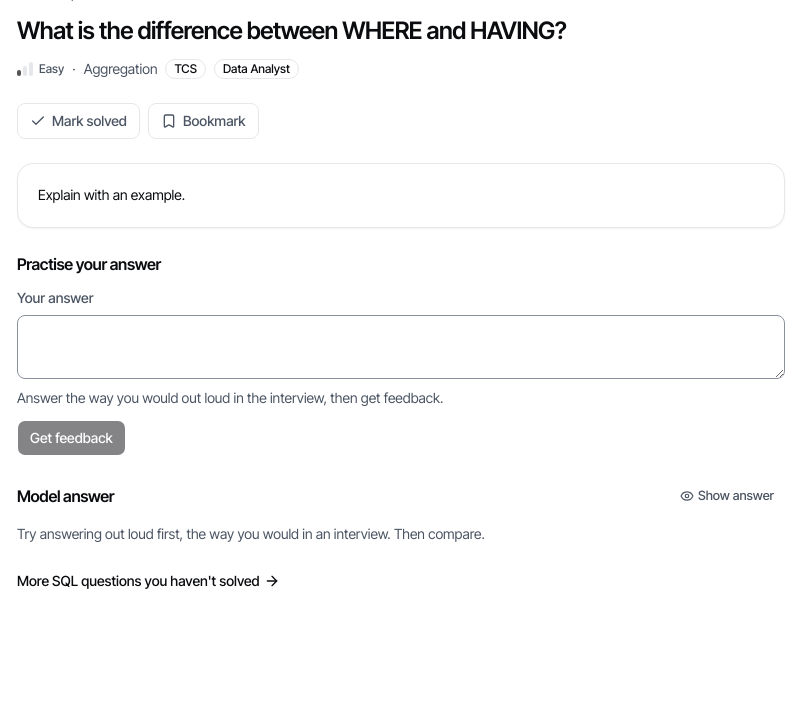
it: QuestionView: your answer and the coach › gets feedback on a written answer
The width and height of the screenshot is (803, 703).
Expected: the button "Get feedback" is disabled, [17,420,126,456]
Type "WHERE filters rows before grouping, HAVING filters the groups." into the text box labelled "Your answer" at (401, 347), box [17,315,785,379]
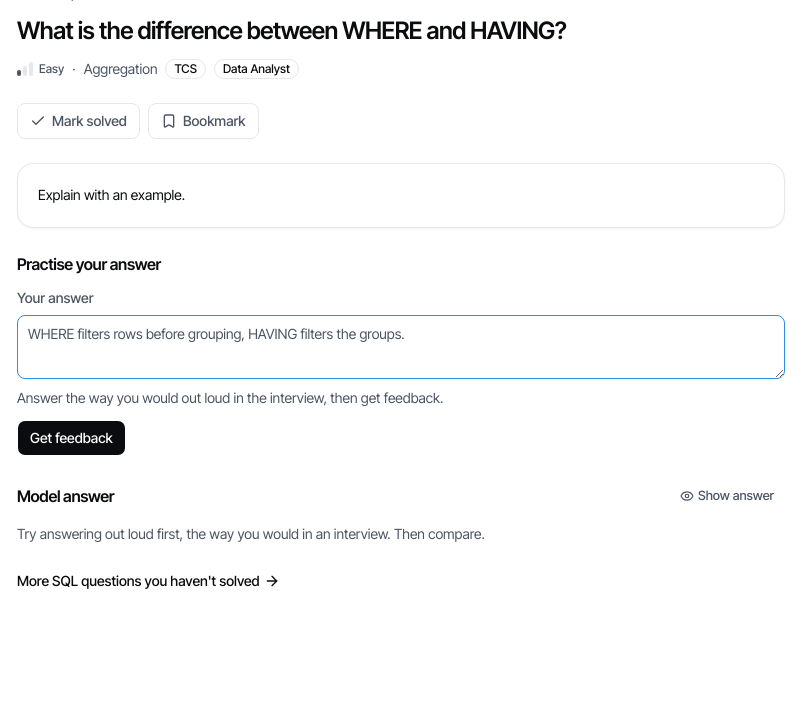
Click the button "Get feedback" at (71, 438), box [17,420,126,456]
(page scrolled)
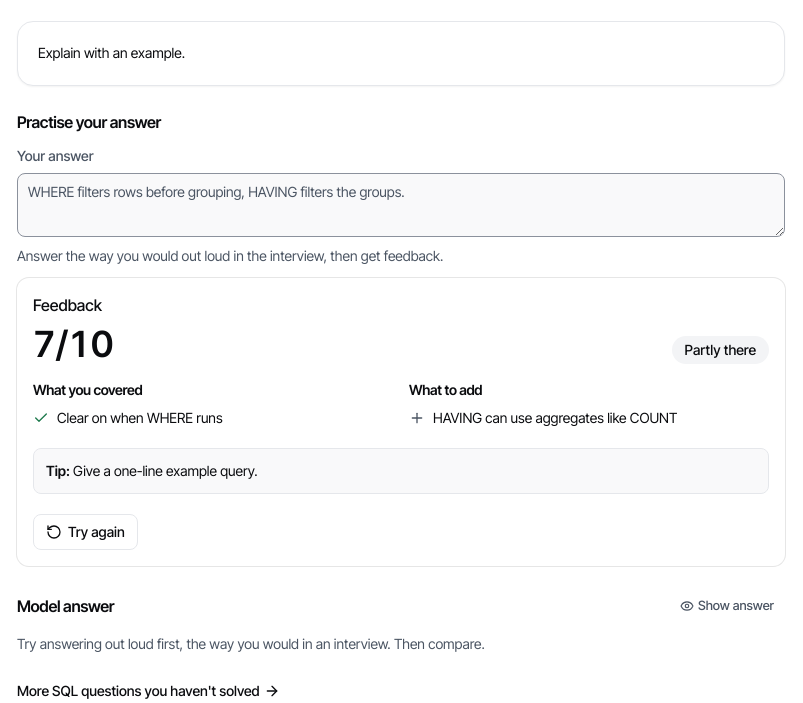
Expected: the text "7/10" is shown, [33,324,114,364]
Expected: the text "Partly there" is shown, [672,336,769,364]
Expected: the text "Clear on when WHERE runs" is shown, [57,408,223,428]
